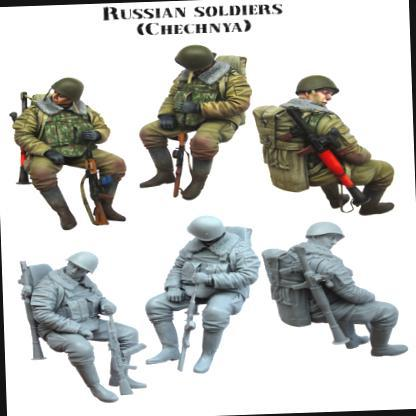police_car: (6, 247, 150, 408), (257, 218, 405, 366), (252, 69, 394, 221), (140, 214, 264, 381), (133, 41, 255, 204), (10, 73, 131, 233)
